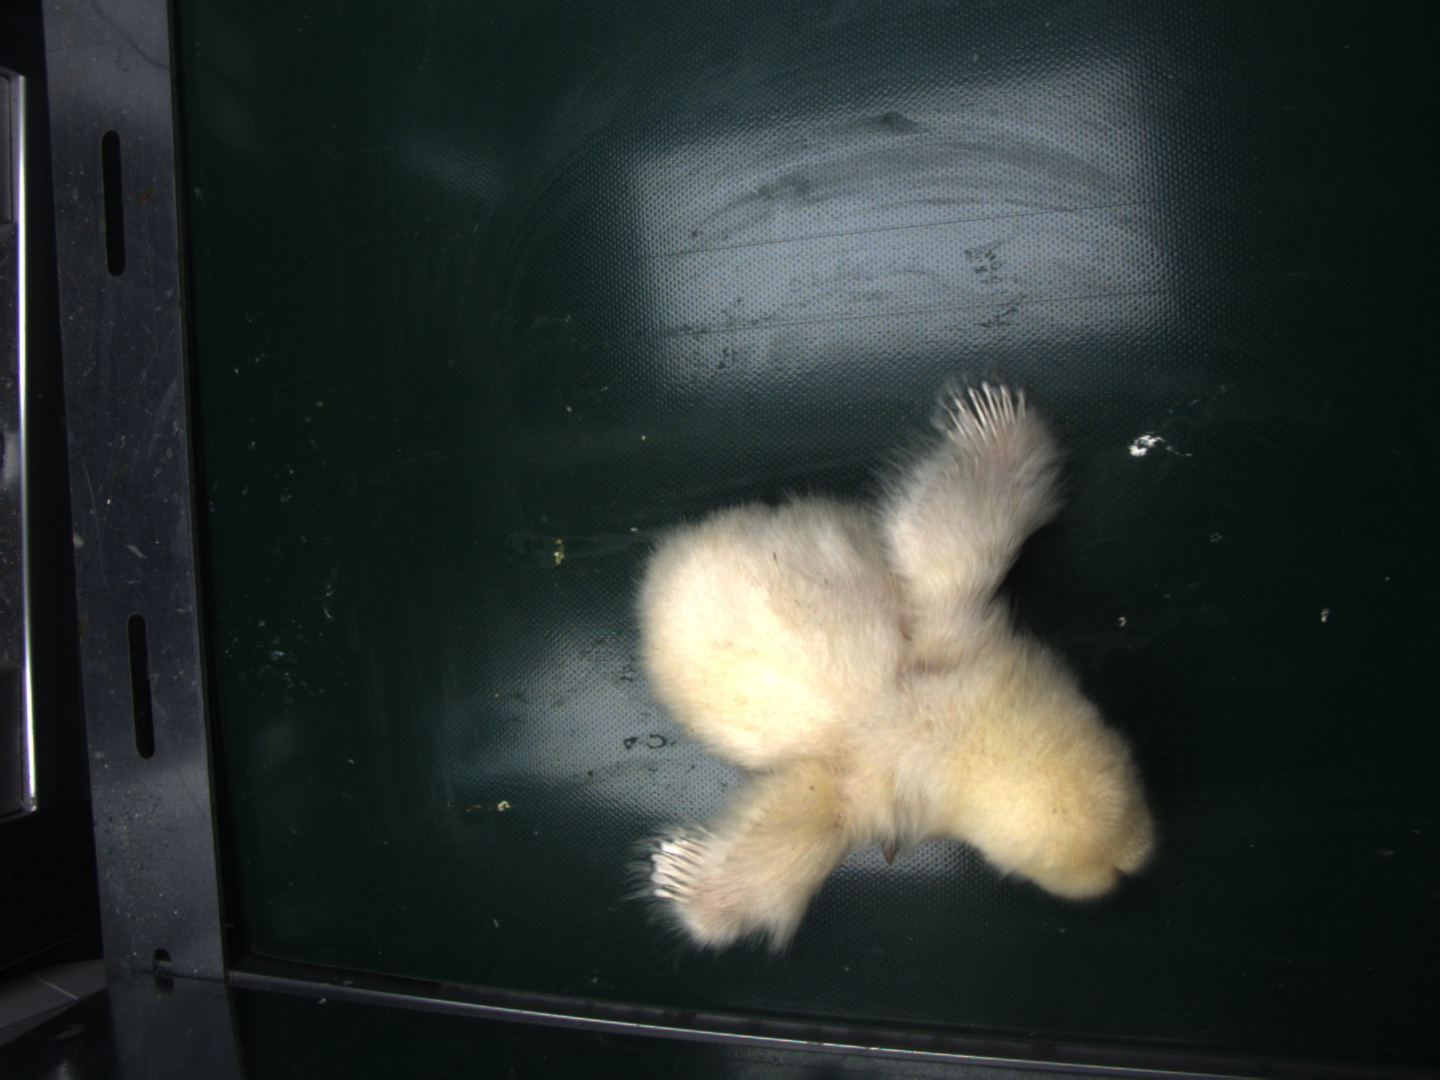male: (933, 372, 1022, 444), (664, 834, 715, 908)
